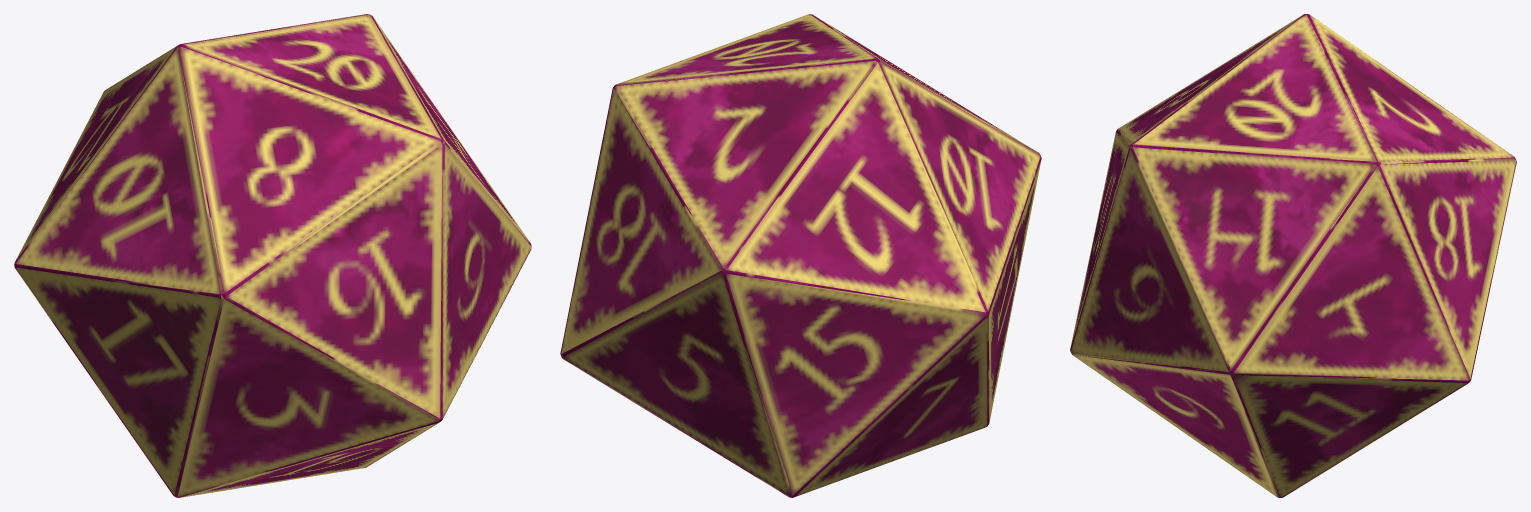
File: GayumaD20_256Resolution.glb
The picture shows the model from 3 angles, left to right: view 1: azimuth 30°, elevation 25°; view 2: azimuth 150°, elevation 25°; view 3: azimuth 270°, elevation 25°; orthographic projection. The views are drawn at different scales.
Parts seen in each view (by area): view 1: polySurface2; view 2: polySurface2; view 3: polySurface2.
Part boxes in pixels (left/top/right/bottom): polySurface2: left=14, top=14, right=531, bottom=497; polySurface2: left=560, top=14, right=1041, bottom=497; polySurface2: left=1070, top=14, right=1516, bottom=497.
Bounding box in the file's own units: 0.0213 × 0.0206 × 0.0203.
Materials: 1 (1 with a texture image).
